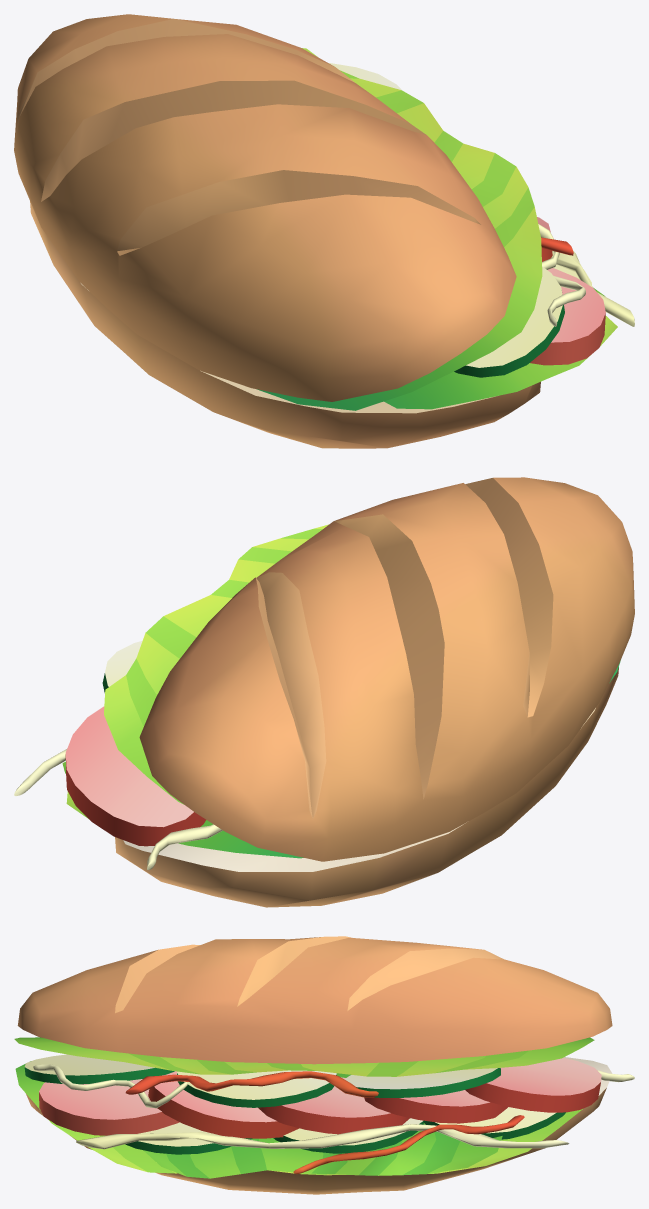
File: BM_HotDog.fbx
The picture shows the model from 3 angles, top to bottom: view 1: azimuth 30°, elevation 25°; view 2: azimuth 150°, elevation 25°; view 3: azimuth 270°, elevation 25°; orthographic projection. The views are drawn at different scales.
Visible parts, largest first — view 1: BM_HotDog_Variant; view 2: BM_HotDog_Variant; view 3: BM_HotDog_Variant.
Part boxes in pixels (x1,y1,x2,y2): BM_HotDog_Variant: (14, 14, 634, 448); BM_HotDog_Variant: (14, 477, 634, 907); BM_HotDog_Variant: (14, 936, 634, 1194).
Size of the model in its own units: 163 by 119 by 298.
